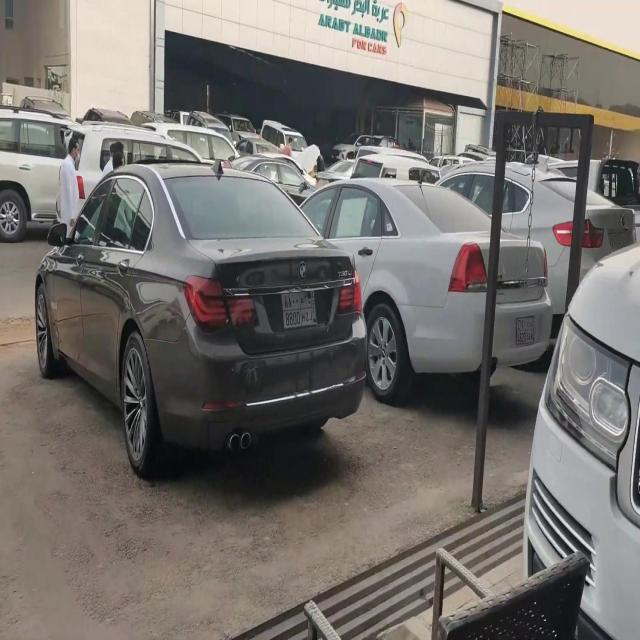license_plate: (278, 284, 319, 332), (512, 309, 539, 347)
